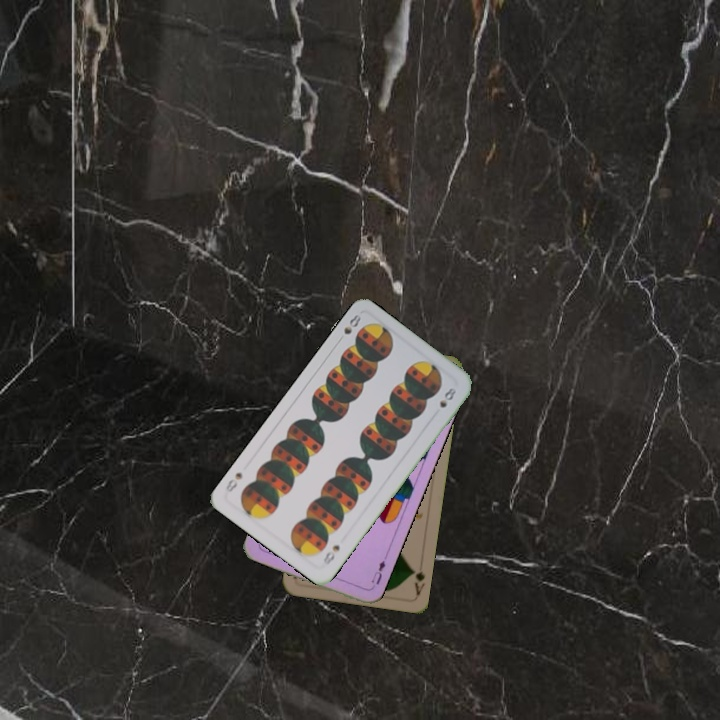EU: (366, 556, 388, 591)
GA: (408, 566, 427, 597)
S8: (333, 310, 364, 345), (319, 541, 342, 568)
